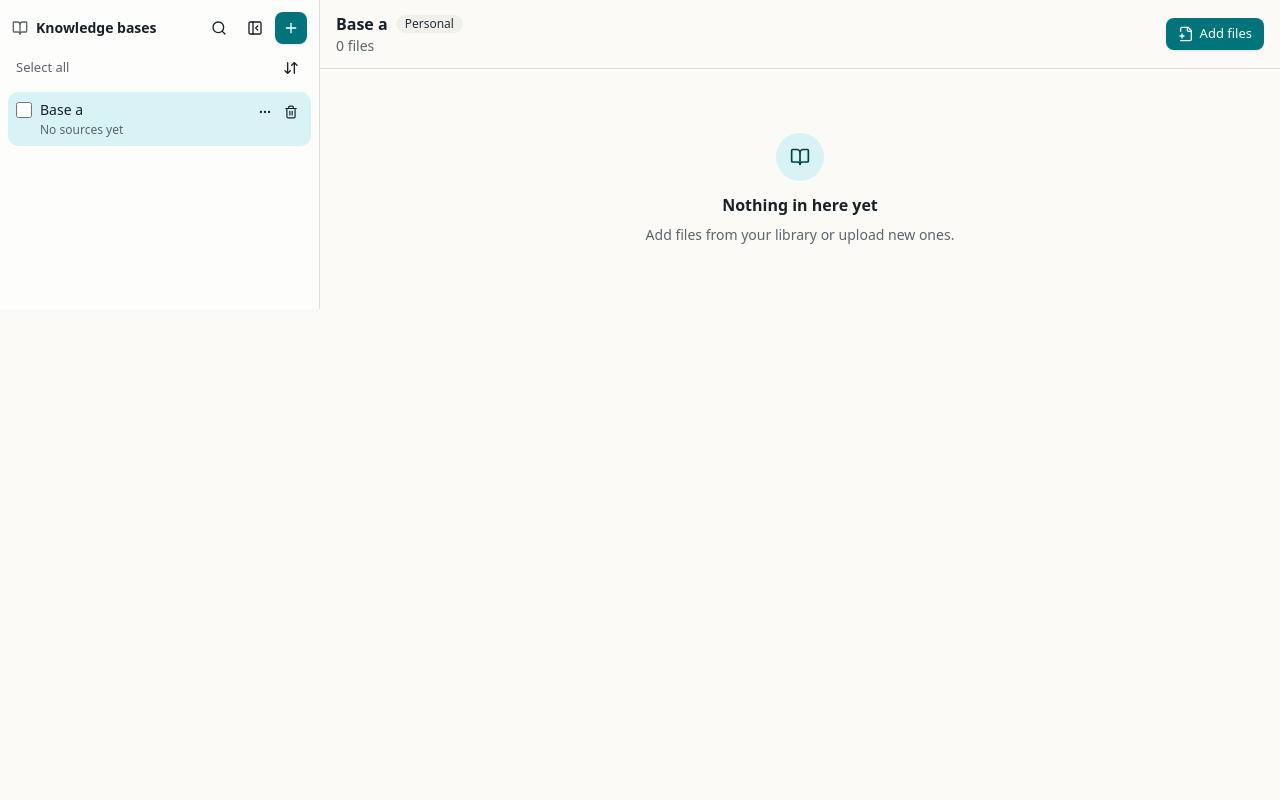
Test: add files (scenario 20) › adds the chosen files and refreshes
Step 1. Click the button "Add files" → click(1215, 34), box [1166,18,1264,50]
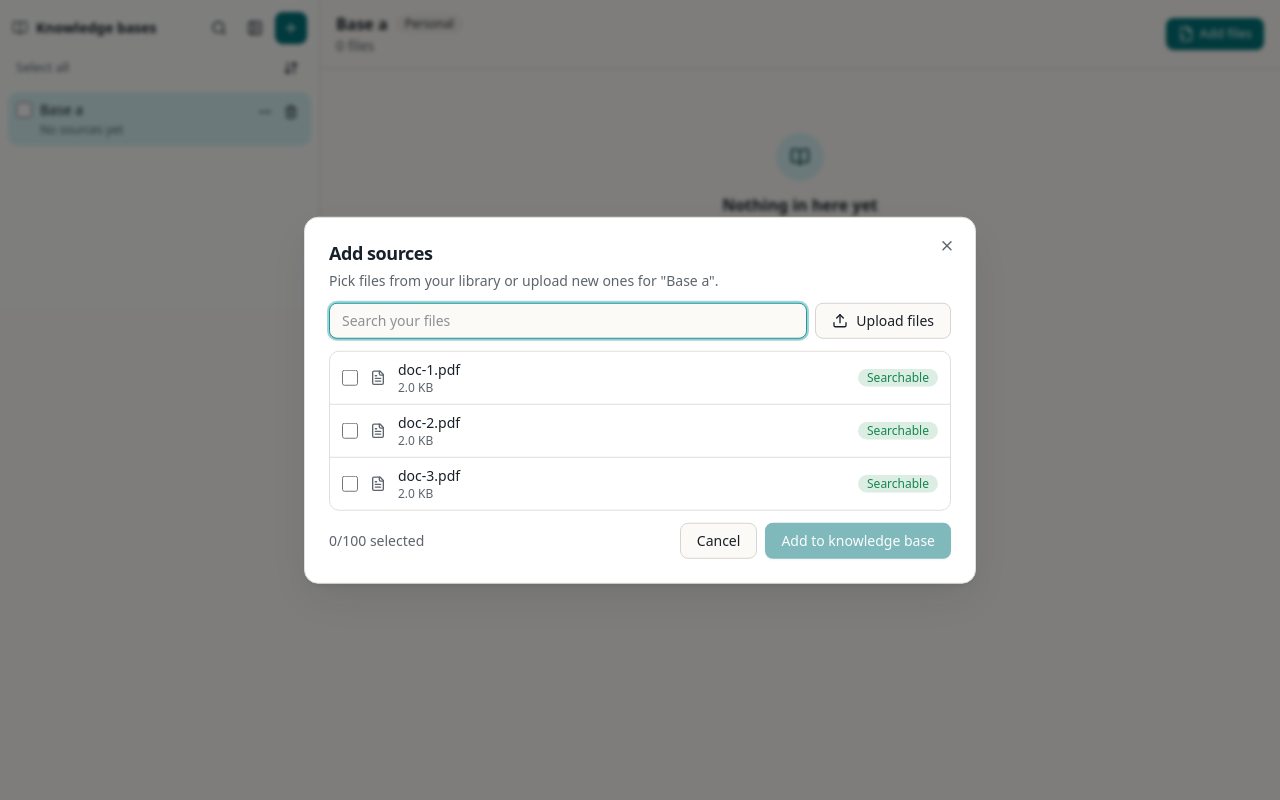
Expected: the text "doc-1.pdf" is shown, [398,359,460,378]
Step 2. Click the checkbox named "Select doc-1.pdf" → click(350, 377), box [342,369,358,385]
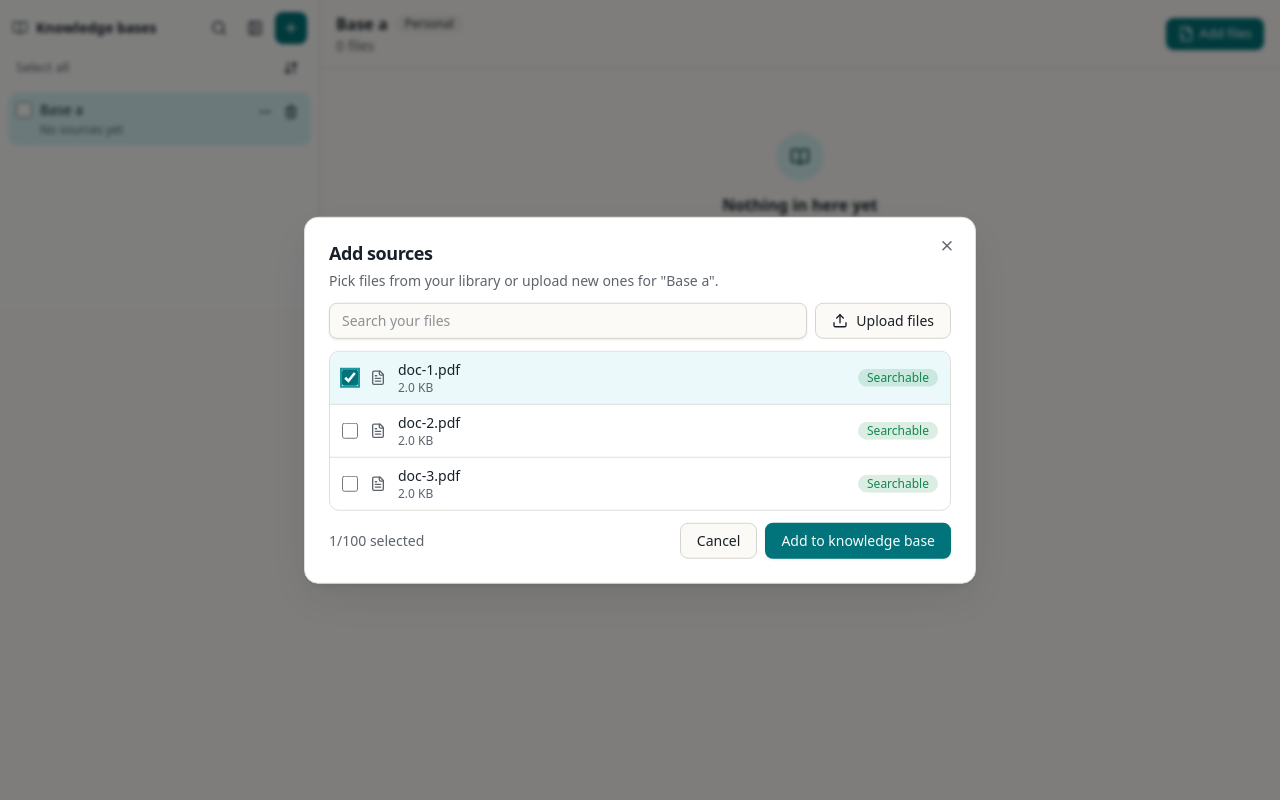
Step 3. Click the checkbox named "Select doc-2.pdf" → click(350, 430), box [342,422,358,438]
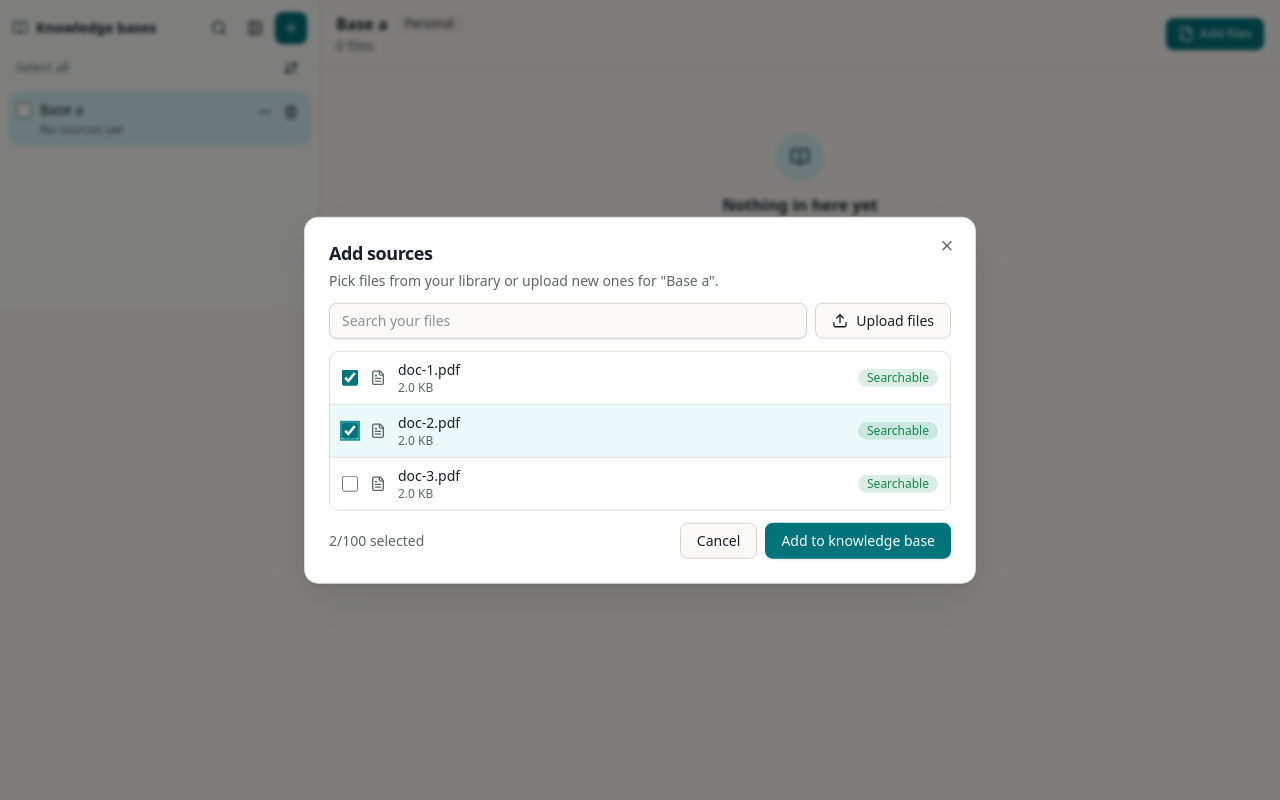
Step 4. Click the checkbox named "Select doc-3.pdf" → click(350, 483), box [342,475,358,491]
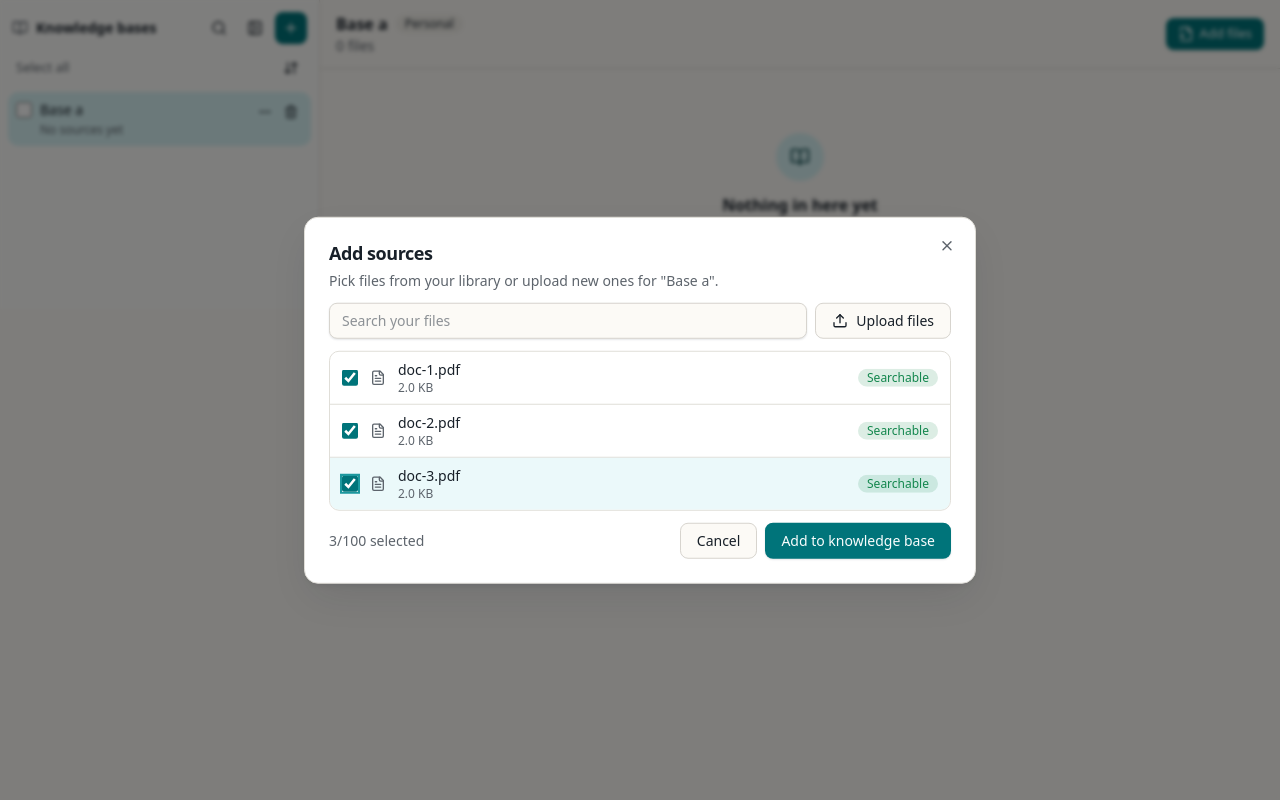
Expected: the text "3/100 selected" is shown, [329,530,424,550]
Step 5. Click the button "Add to knowledge base" → click(858, 540), box [765,522,951,558]
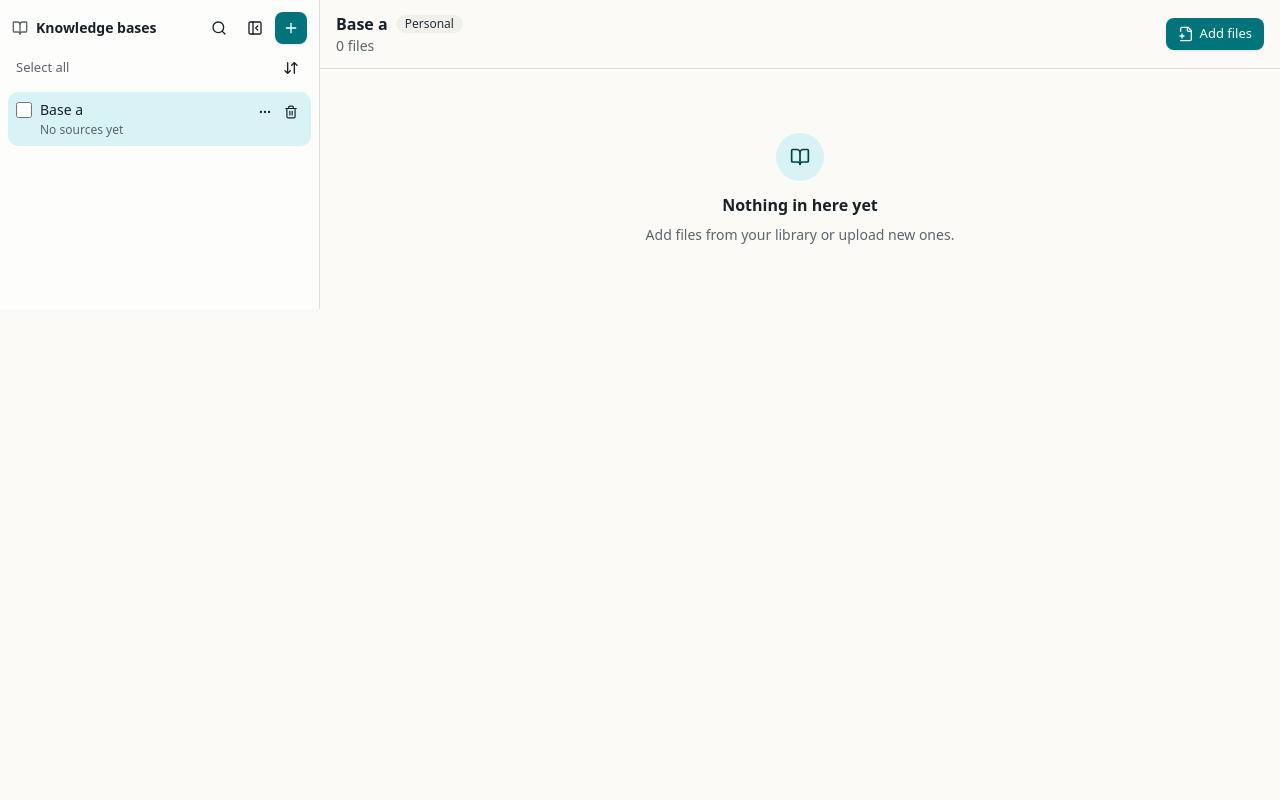
Expected: the dialog is gone
